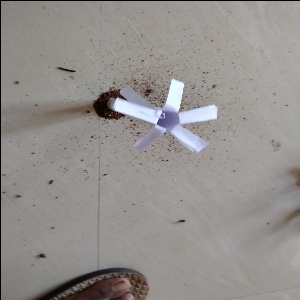weed: (97, 73, 219, 155)
